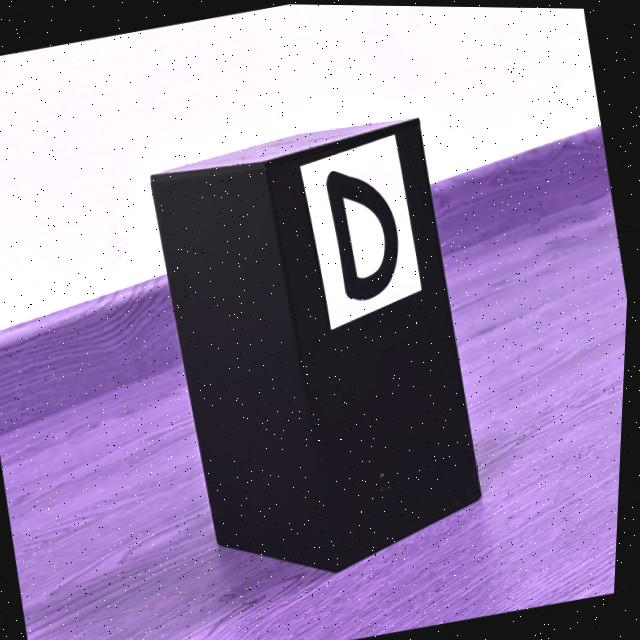D: (328, 170, 401, 299)
